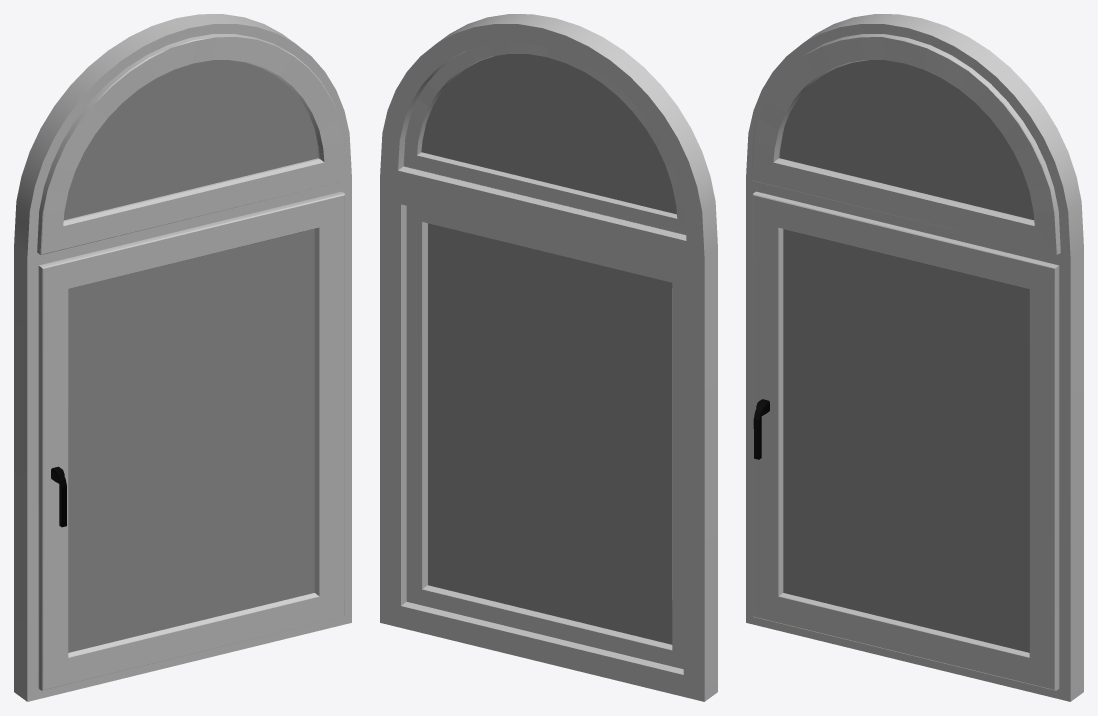
The model's file is Window 9.FBX.
The picture shows the model from 3 angles, left to right: view 1: azimuth 30°, elevation 25°; view 2: azimuth 150°, elevation 25°; view 3: azimuth 330°, elevation 25°; orthographic projection.
Visible parts, largest first — view 1: window, window frame; view 2: window, window frame; view 3: window, window frame.
Boxes of the visible parts, x1,y1,x2,y2 form: window: (38,191,344,690); window frame: (14,14,351,701); window: (406,206,683,669); window frame: (380,14,717,701); window: (753,191,1059,690); window frame: (746,14,1083,701).
Bounding box in the file's own units: 128 × 239 × 18.19.
